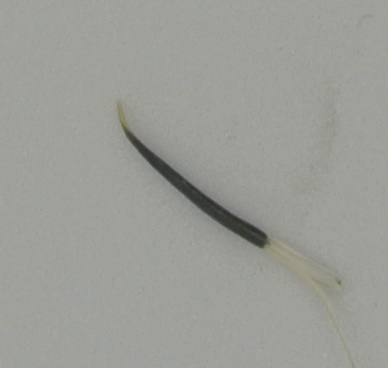เมล็ดดีเรียวยาว: (104, 96, 347, 317)
